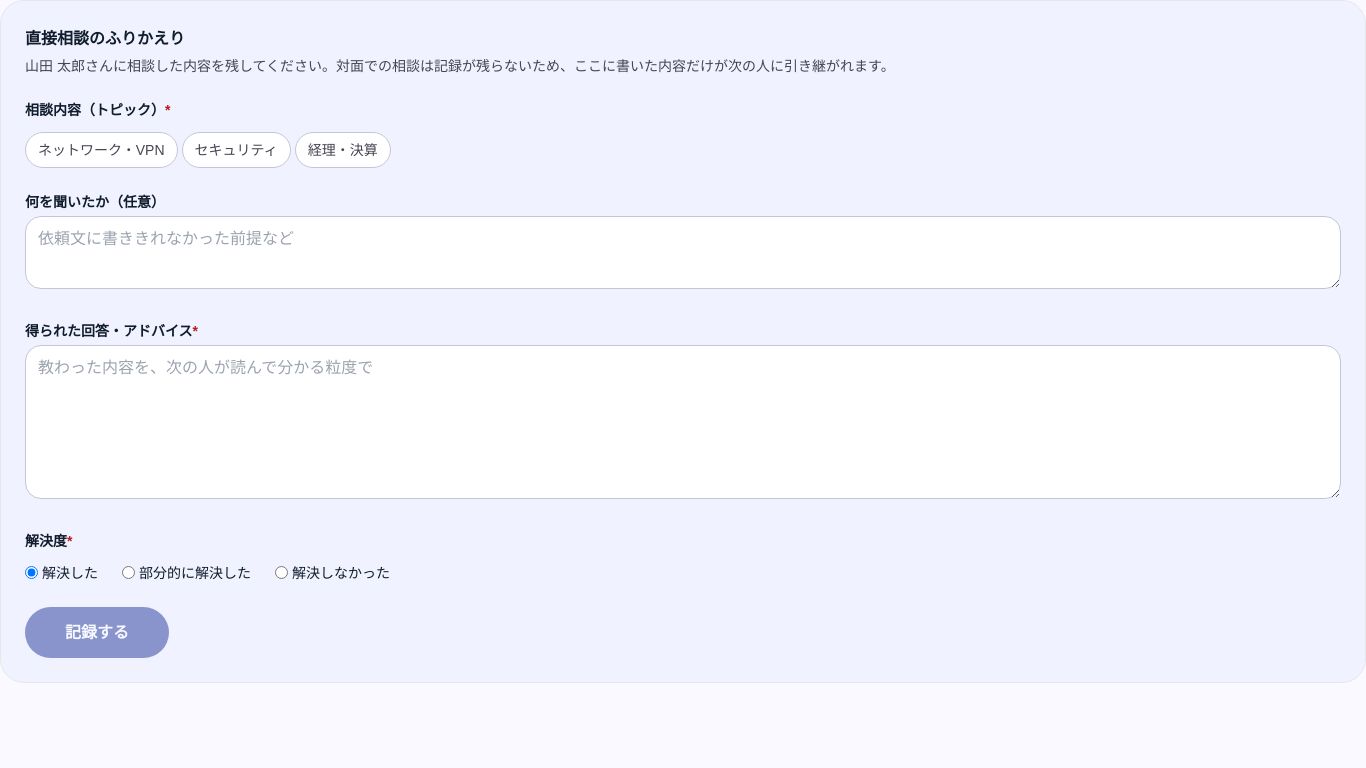
Test case: RetrospectiveForm › explains that 解決しなかった is recorded but never counts against the responder
The image size is (1366, 768).
Expected: the button "ネットワーク・VPN" is shown, [25,132,178,168]
Click the radio button labelled "解決しなかった" at (282, 573), box [275,566,288,579]
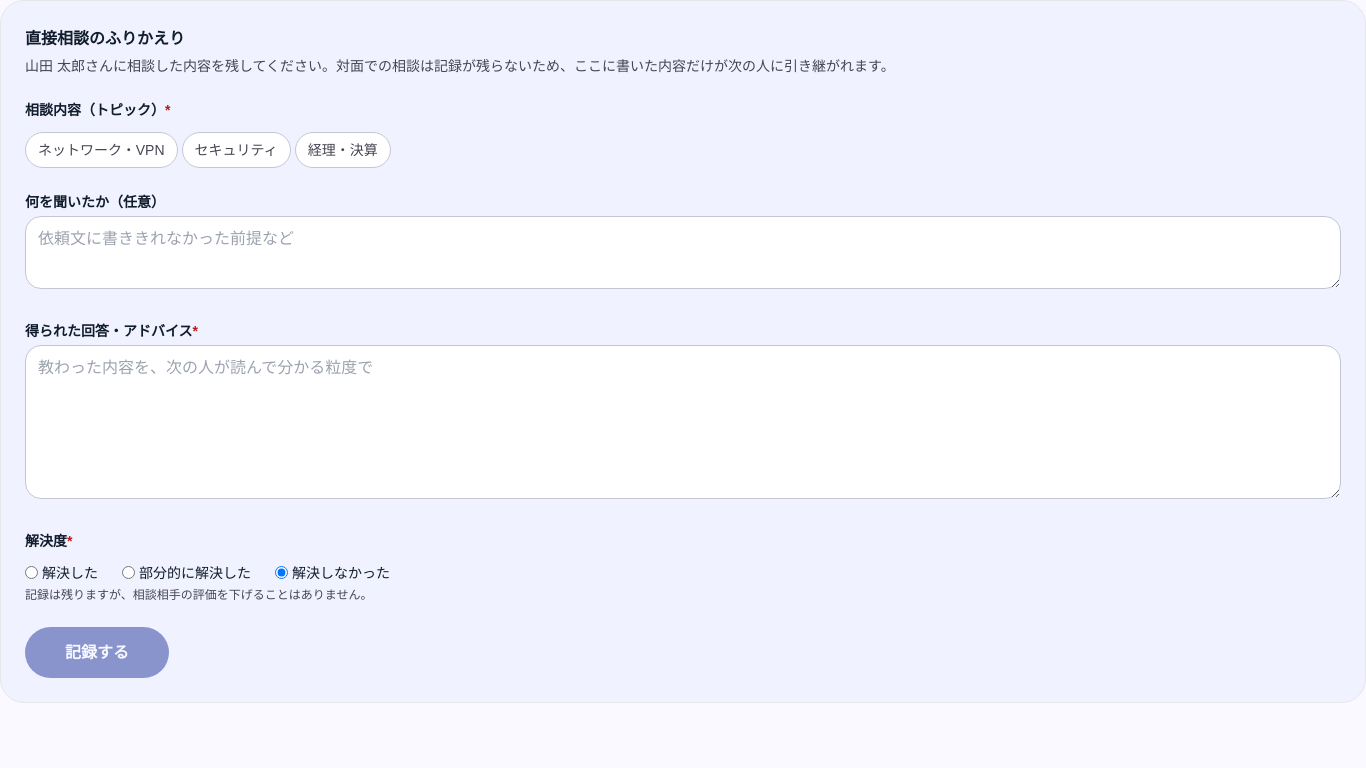
Expected: the text "記録は残りますが、相談相手の評価を下げることはありません。" is shown, [25,588,372,602]
